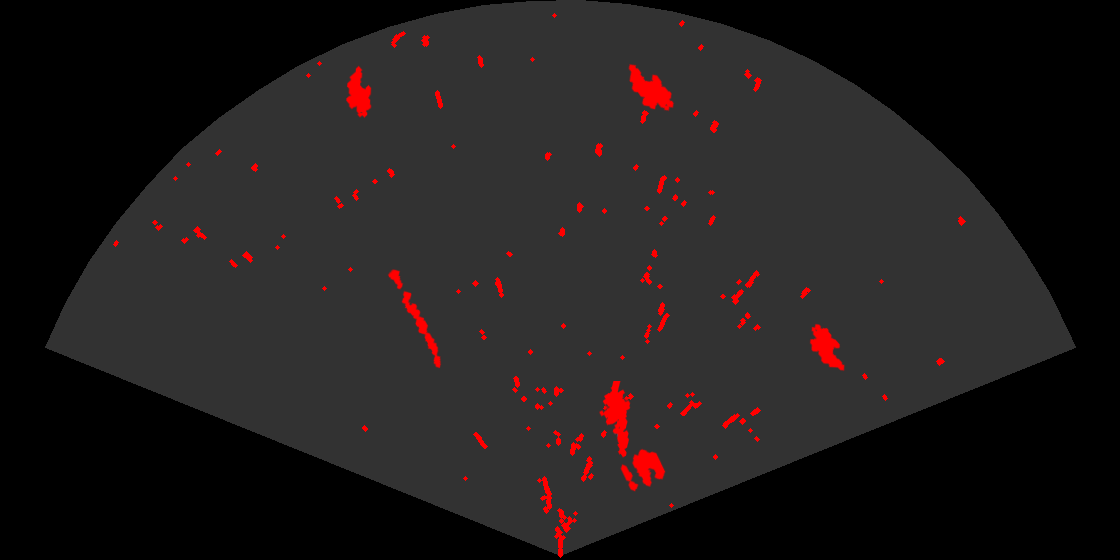AUV: (627, 62, 676, 113), (808, 322, 846, 373), (345, 64, 373, 120)
ball: (619, 447, 667, 493)
chain: (386, 268, 443, 370)
frogman: (598, 381, 632, 459)
